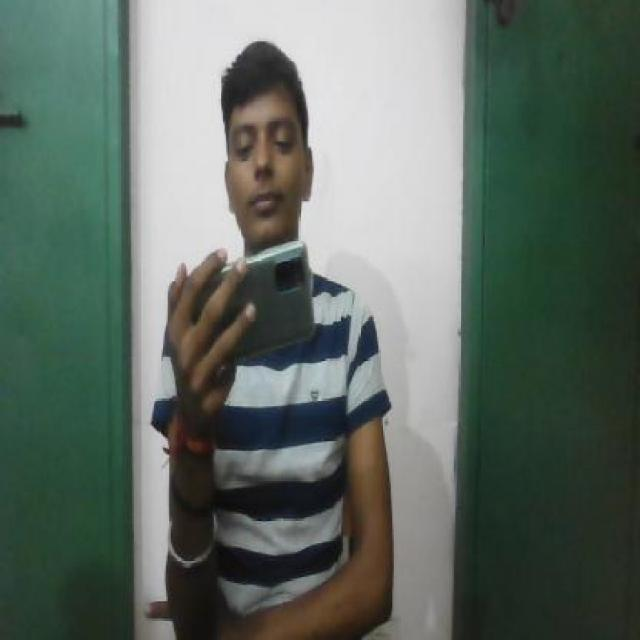Phone: (188, 238, 317, 364)
